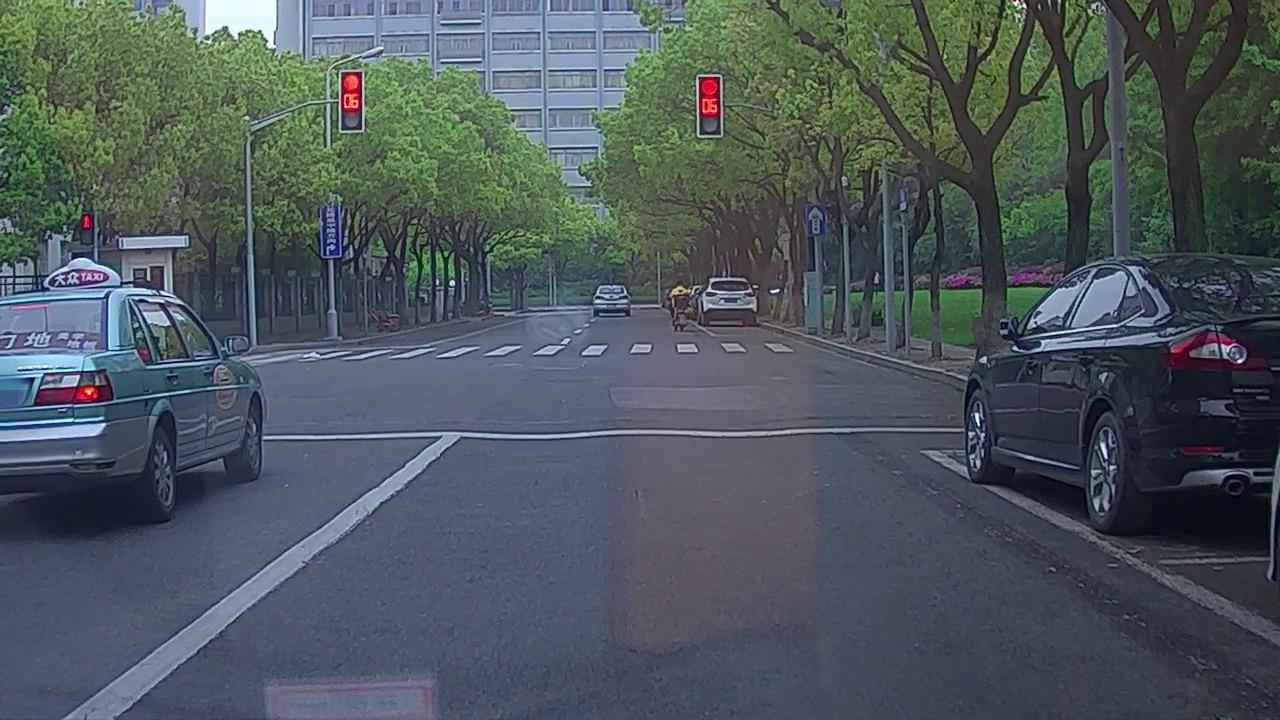traffic_light: (697, 75, 722, 138), (341, 71, 363, 131)
